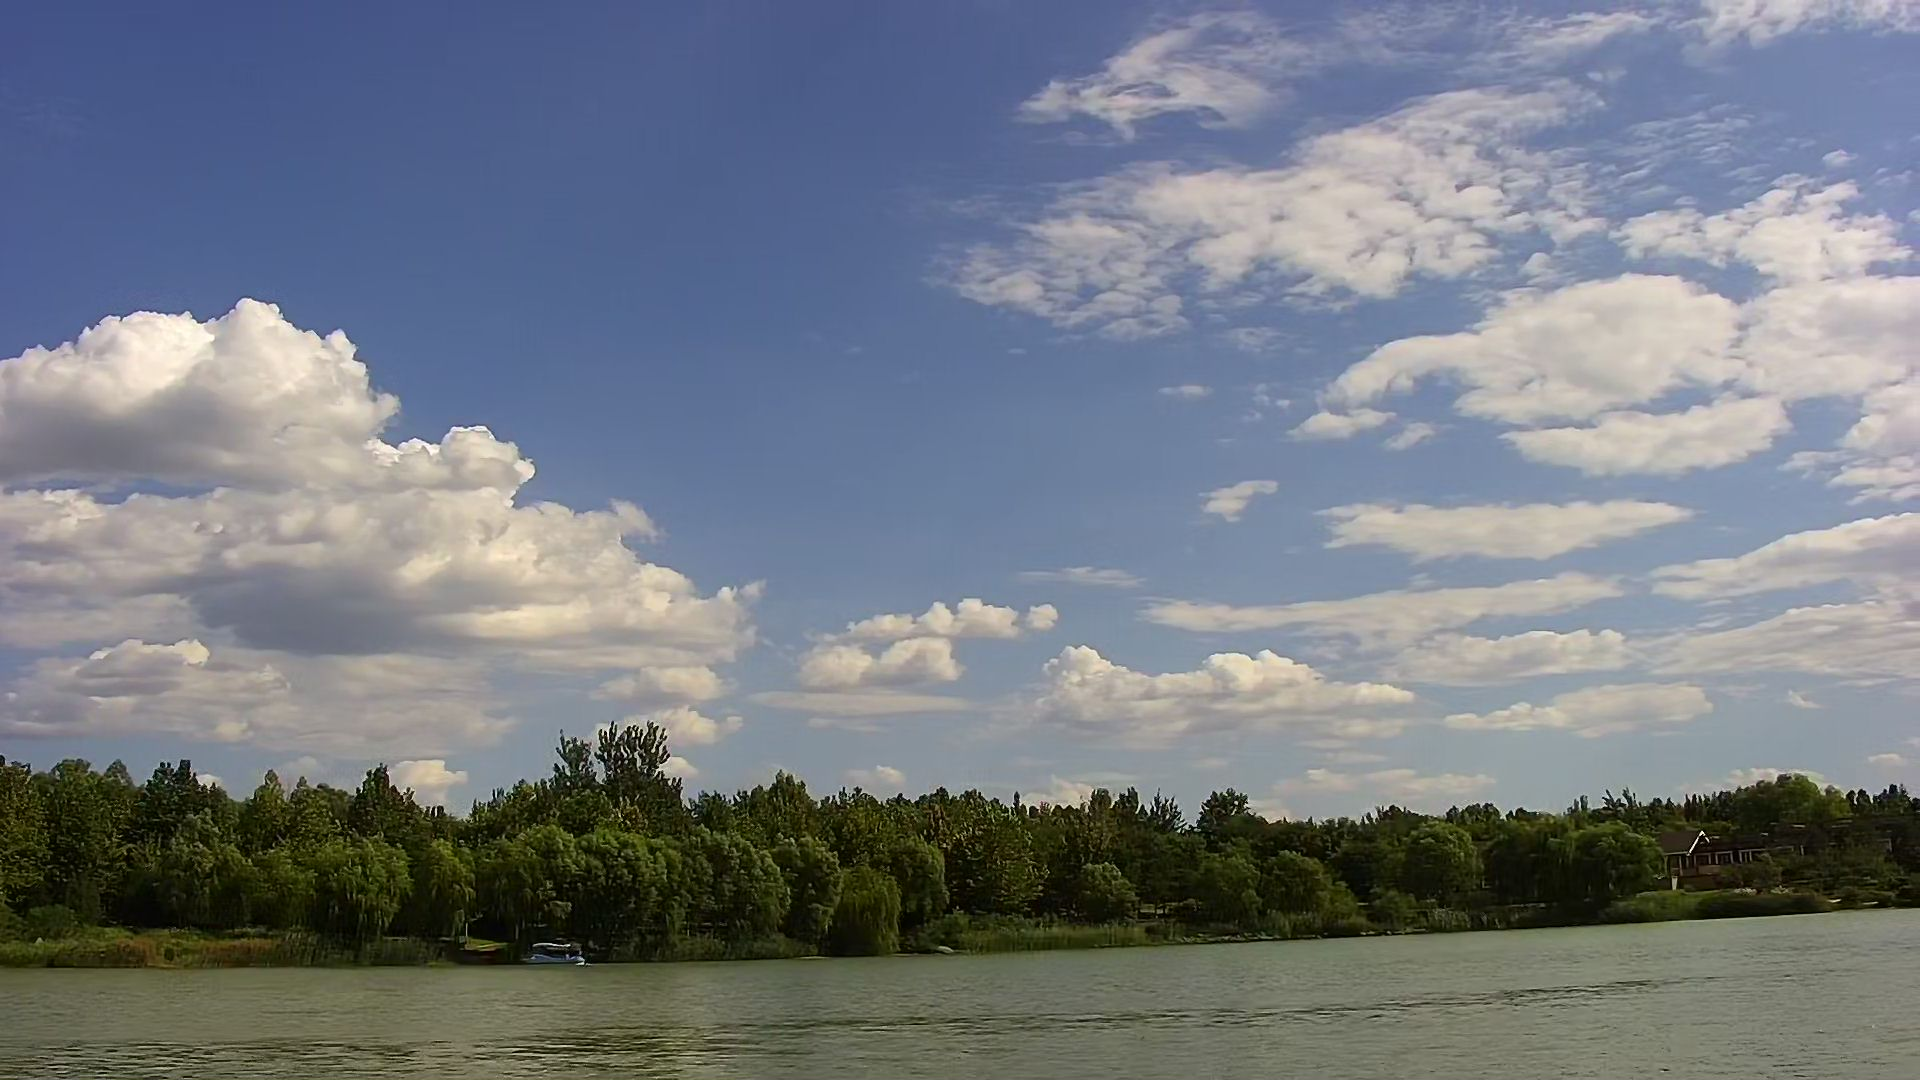boat: (518, 936, 588, 968)
